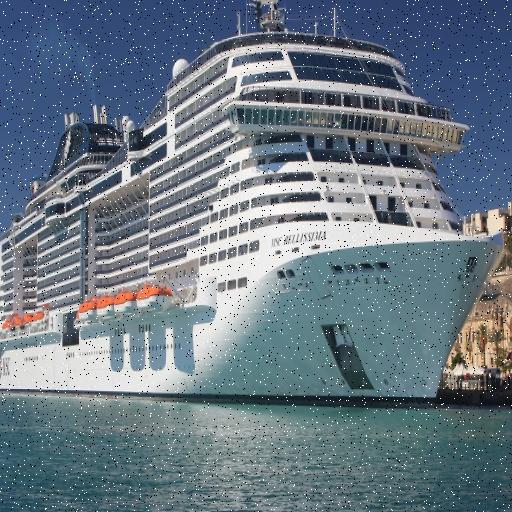cruises: (1, 1, 512, 415)
